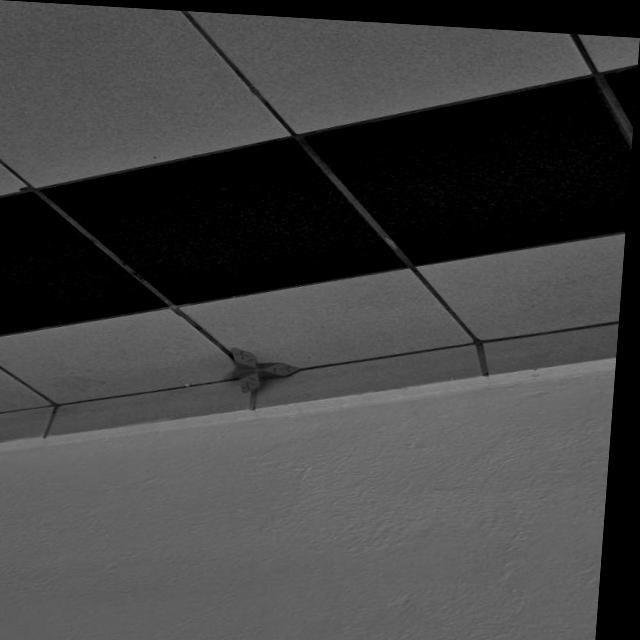eje: (224, 346, 303, 398)
